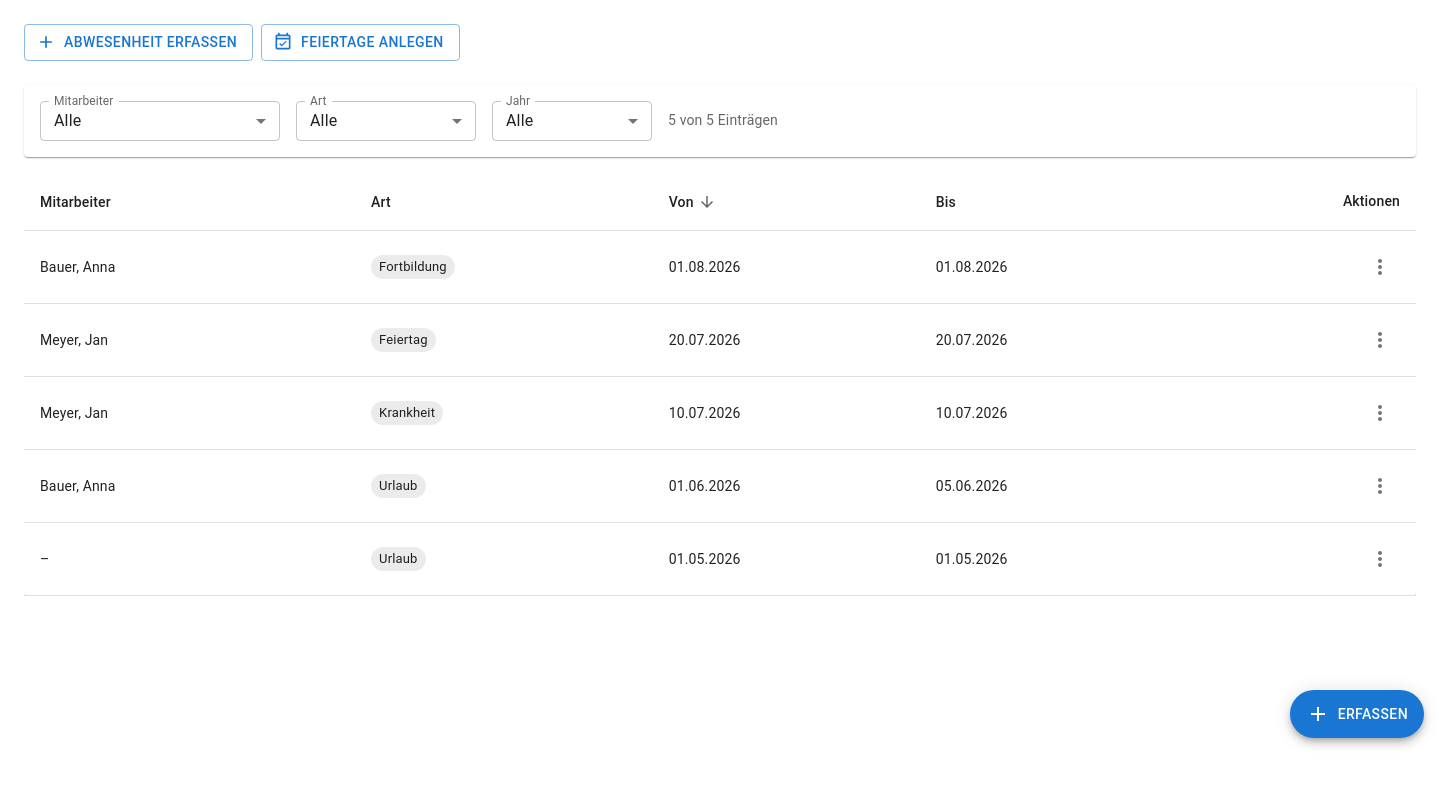
Test: AbsencesView › with a branch selected › narrows rows by the type filter alone, discriminating same-employee rows by type
The image size is (1440, 810).
Check: the text "Fortbildung" is shown, box [379,258,447,274]
Click the dropdown named "Art".
click(324, 120)  # box [310,111,337,130]
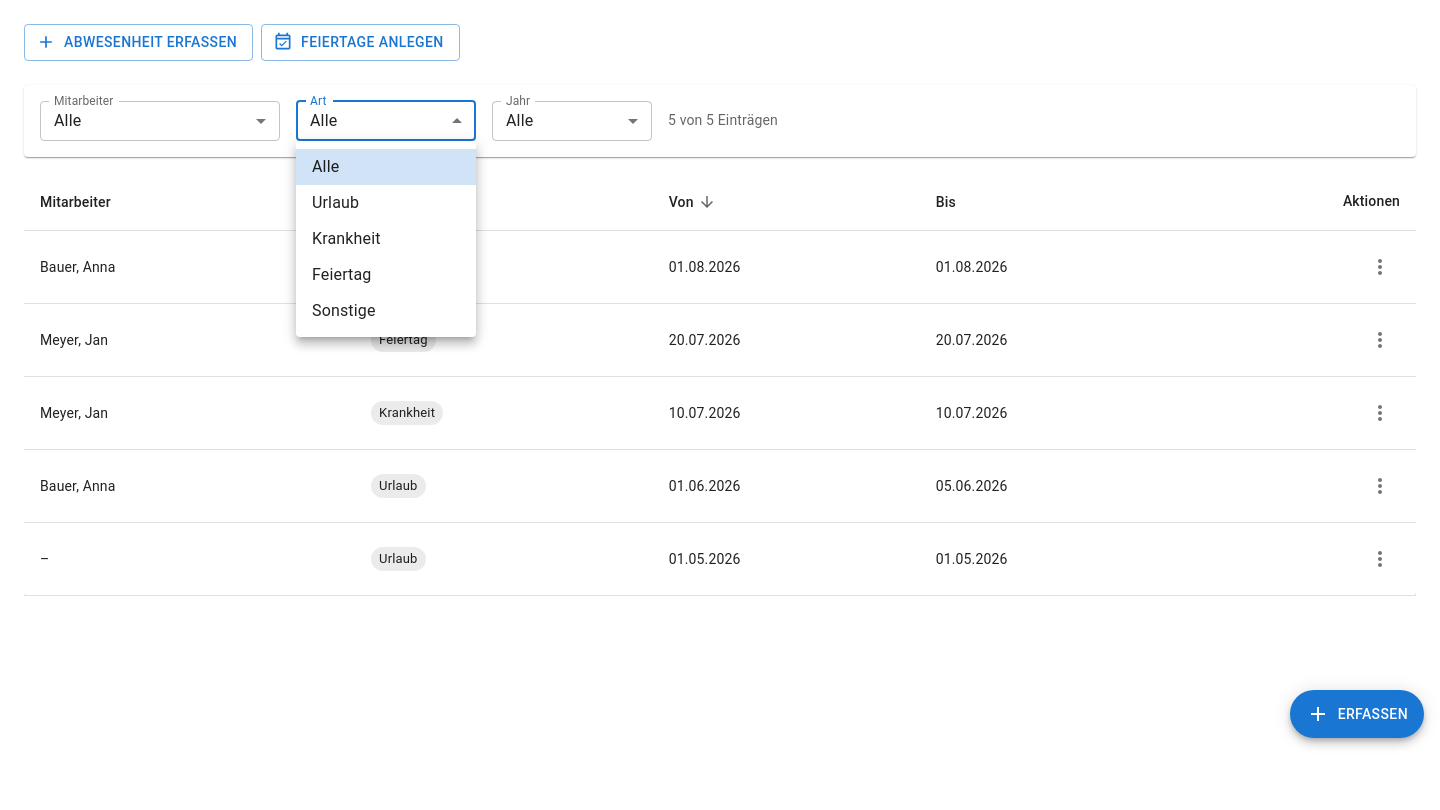
Click the option "Krankheit".
click(346, 238)  # box [312,229,381,248]
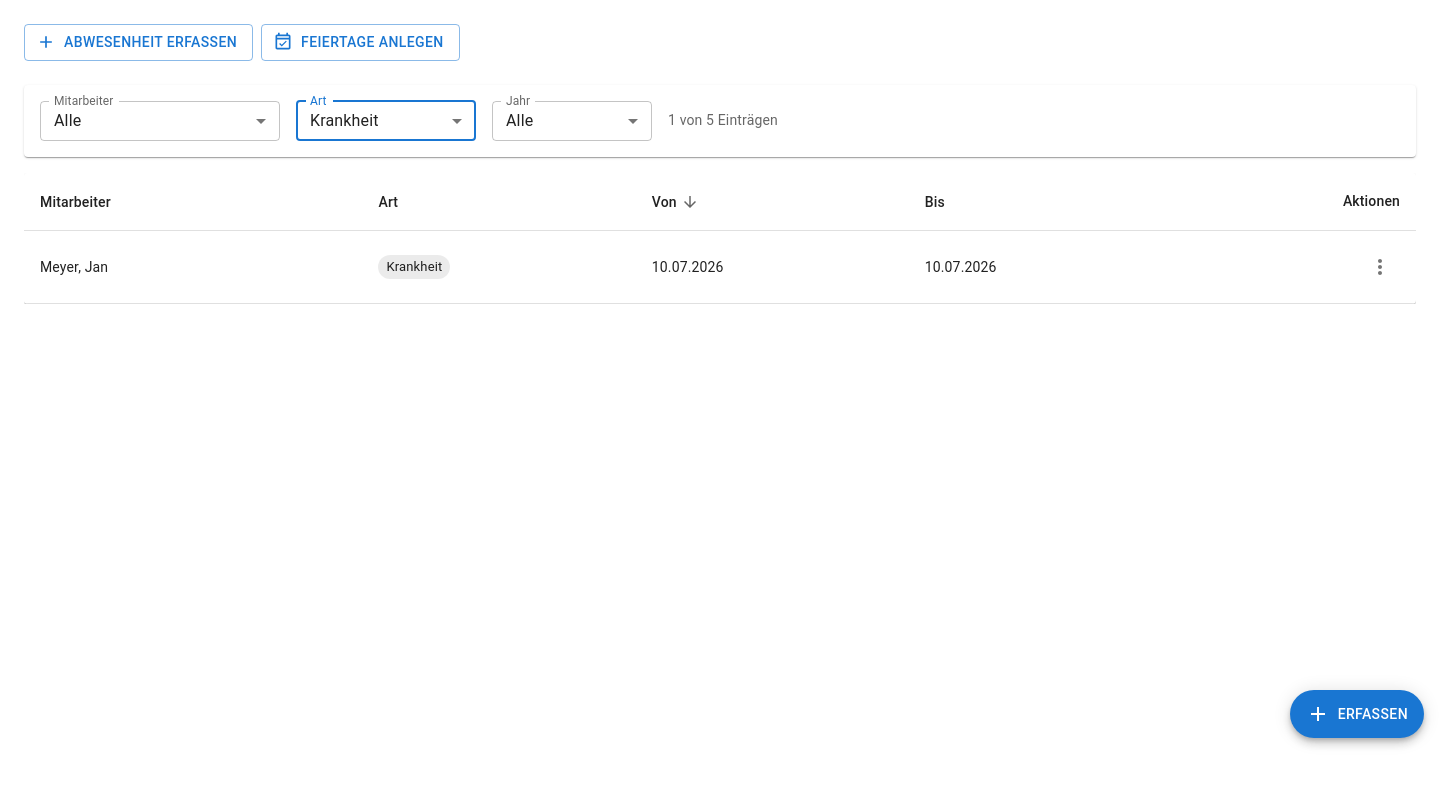
Check: the text "Bauer, Anna" is gone
Check: the text "Urlaub" is gone
Check: the text "Fortbildung" is gone
